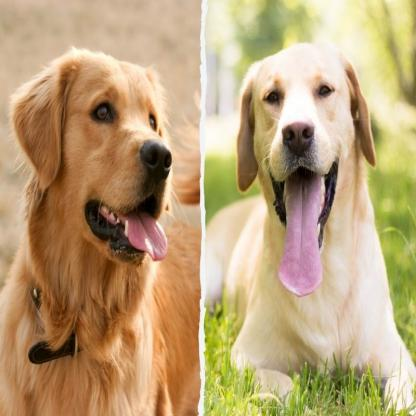Labarador Retriever: (205, 52, 414, 406), (1, 52, 200, 416)
